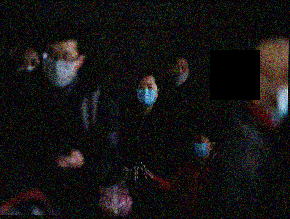with_mask: (42, 48, 79, 89), (136, 81, 158, 107), (168, 61, 190, 87), (192, 136, 209, 158)
